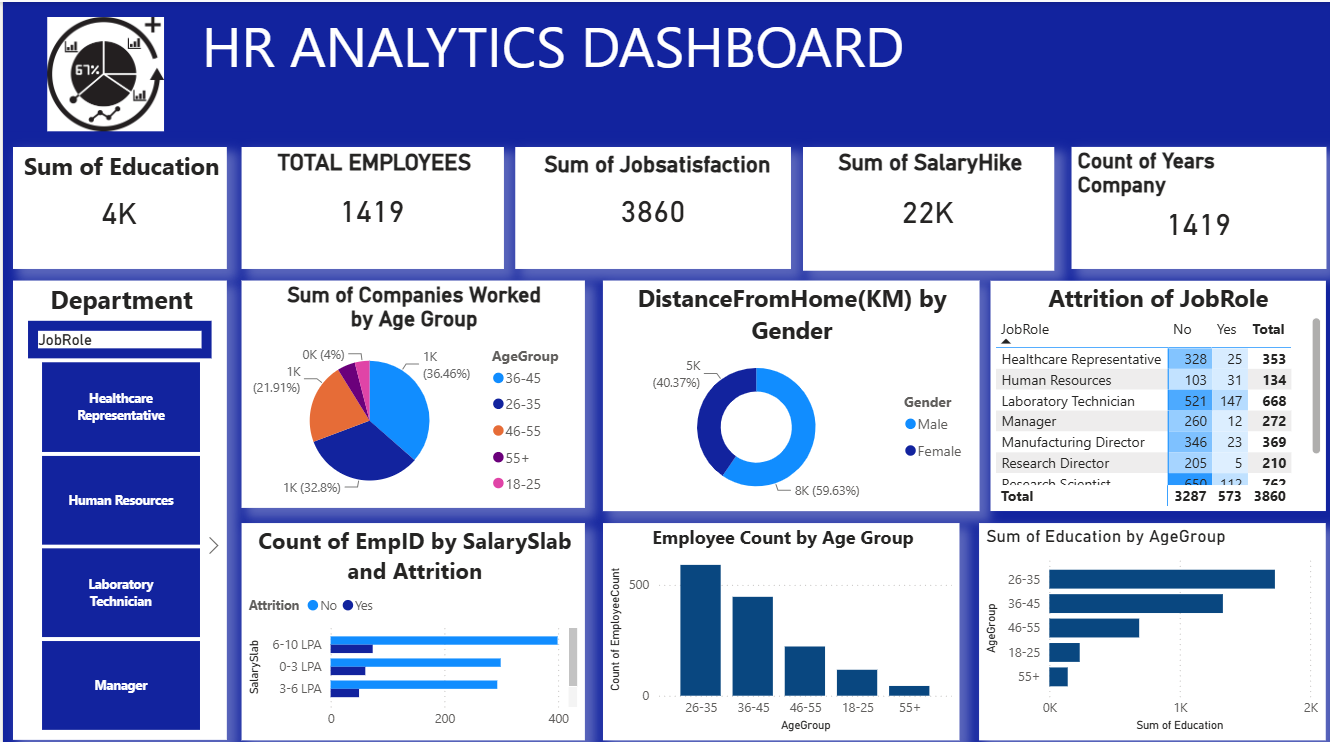

The dashboard page shown, as its layout file describes it:
{"tool":"powerbi","page":{"name":"EXCERCISE ANALYTICS","canvas":[1280,720],"ordinal":0},"visuals":[{"type":"textbox","box":[0,0,1279.7,124.1],"z":0},{"type":"image","box":[0,14.4,196.2,109.6],"z":1000},{"type":"card","title":"TOTAL EMPLOYEES","fields":{"Values":["CountNonNull(HR_Analytics-4.EmpID)"]},"box":[229.4,138.5,251,116.9],"z":2000},{"type":"card","title":"Sum of Jobsatisfaction","fields":{"Values":["Sum(HR_Analytics-4.JobSatisfaction)"]},"box":[492,138.5,264,116.9],"z":3000},{"type":"card","title":"Sum of SalaryHike","fields":{"Values":["Sum(HR_Analytics-4.SalaryHike %)"]},"box":[767.5,138.5,240.9,118.3],"z":4000},{"type":"card","title":"Count of Years Company","fields":{"Values":["CountNonNull(HR_Analytics-4.YearsatCompany)"]},"box":[1024.4,138.5,243.8,116.9],"z":5000},{"type":"pieChart","title":"Sum of Companies Worked by Age Group","fields":{"Category":["HR_Analytics-4.AgeGroup"],"Y":["Sum(HR_Analytics-4.NumCompaniesWorked)"]},"box":[229.4,266.9,328.9,217.9],"z":6000},{"type":"clusteredBarChart","fields":{"Category":["HR_Analytics-4.SalarySlab"],"Series":["HR_Analytics-4.Attrition"],"Y":["CountNonNull(HR_Analytics-4.EmpID)"]},"box":[229.4,499.2,328.9,207.8],"z":7000},{"type":"donutChart","title":"DistanceFromHome(KM) by Gender","fields":{"Category":["HR_Analytics-4.Gender"],"Y":["Sum(HR_Analytics-4.DistanceFromHome(KM))"]},"box":[575.7,266.9,360.7,220.7],"z":8000},{"type":"card","title":"Sum of Education","fields":{"Values":["Sum(HR_Analytics-4.Education)"]},"box":[10.1,138.5,204.9,116.9],"z":9000},{"type":"slicer","title":"Department","fields":{"Values":["HR_Analytics-4.JobRole"]},"box":[10.1,266.9,204.9,440],"z":10000},{"type":"pivotTable","title":"Attrition of JobRole","fields":{"Columns":["HR_Analytics-4.Attrition"],"Rows":["HR_Analytics-4.JobRole"],"Values":["Sum(HR_Analytics-4.JobSatisfaction)"]},"box":[946.5,266.9,321.7,220.7],"z":11000},{"type":"columnChart","title":"Employee Count by Age Group","fields":{"Category":["HR_Analytics-4.AgeGroup"],"Y":["CountNonNull(HR_Analytics-4.EmployeeCount)"]},"box":[575.7,499.2,341.9,207.8],"z":11001},{"type":"barChart","fields":{"Category":["HR_Analytics-4.AgeGroup"],"Y":["Sum(HR_Analytics-4.Education)"]},"box":[936.4,499.2,331.8,207.8],"z":11002}]}

Visuals, with their boxes in screenshot pixels (x1, y1, x2, y2), scaled from the page's 1280x720 canvas onto the 1330x742 screenshot:
textbox: {"left": 0, "top": 0, "right": 1329, "bottom": 128}
image: {"left": 0, "top": 15, "right": 204, "bottom": 128}
"TOTAL EMPLOYEES" card: {"left": 238, "top": 143, "right": 499, "bottom": 263}
"Sum of Jobsatisfaction" card: {"left": 511, "top": 143, "right": 786, "bottom": 263}
"Sum of SalaryHike" card: {"left": 797, "top": 143, "right": 1048, "bottom": 265}
"Count of Years Company" card: {"left": 1064, "top": 143, "right": 1318, "bottom": 263}
"Sum of Companies Worked by Age Group" pieChart: {"left": 238, "top": 275, "right": 580, "bottom": 500}
clusteredBarChart - HR_Analytics-4.SalarySlab x HR_Analytics-4.Attrition: {"left": 238, "top": 514, "right": 580, "bottom": 729}
"DistanceFromHome(KM) by Gender" donutChart: {"left": 598, "top": 275, "right": 973, "bottom": 502}
"Sum of Education" card: {"left": 10, "top": 143, "right": 223, "bottom": 263}
"Department" slicer: {"left": 10, "top": 275, "right": 223, "bottom": 728}
"Attrition of JobRole" pivotTable: {"left": 983, "top": 275, "right": 1318, "bottom": 502}
"Employee Count by Age Group" columnChart: {"left": 598, "top": 514, "right": 953, "bottom": 729}
barChart - HR_Analytics-4.AgeGroup x Sum(HR_Analytics-4.Education): {"left": 973, "top": 514, "right": 1318, "bottom": 729}
